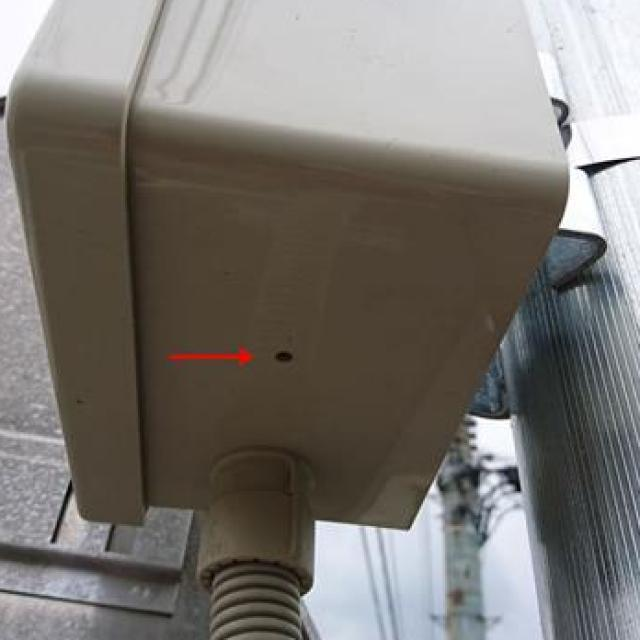hidden camera: (263, 332, 304, 383)
